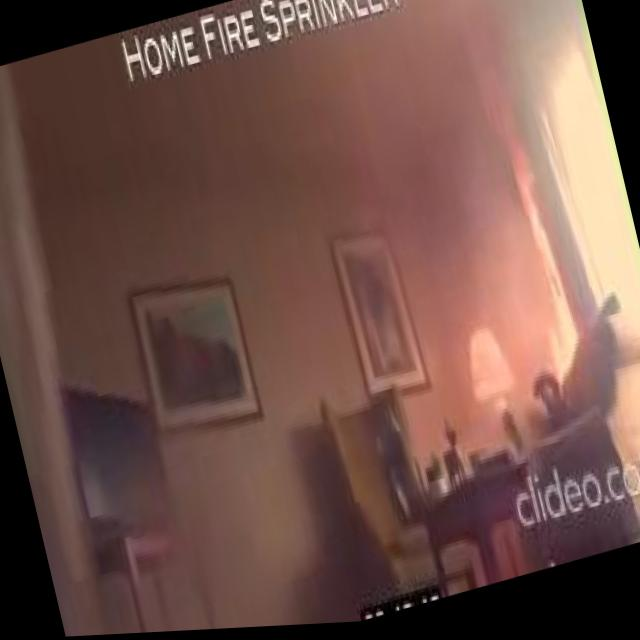fire: (484, 128, 590, 398)
